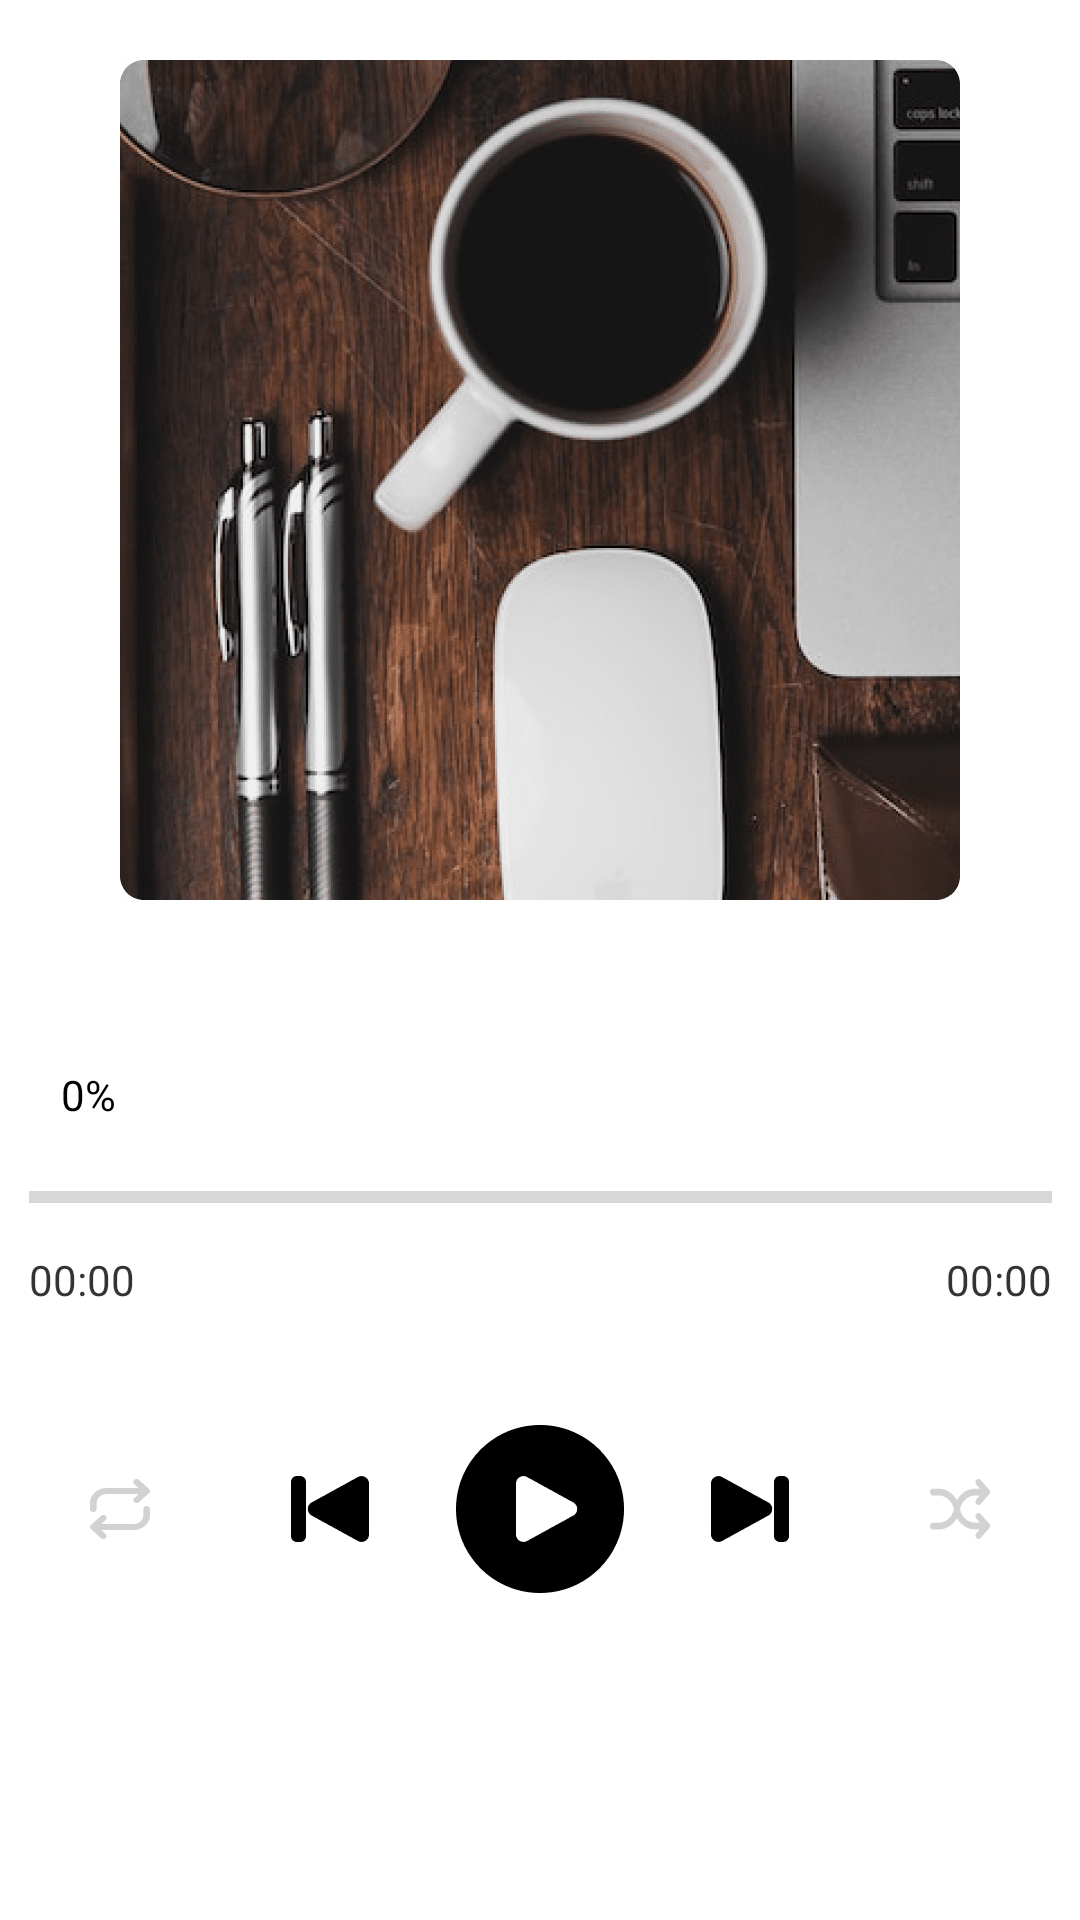

Icon bounding boxes for this 1080px×1920px phone screenshot, format (x1, y1, x2, y2):
playbutton before: (291, 1476, 369, 1542)
playbutton next: (711, 1476, 789, 1542)
playbutton play: (456, 1425, 624, 1593)
repeat deactivated: (90, 1479, 150, 1539)
shuffle deactivated: (930, 1479, 990, 1539)
